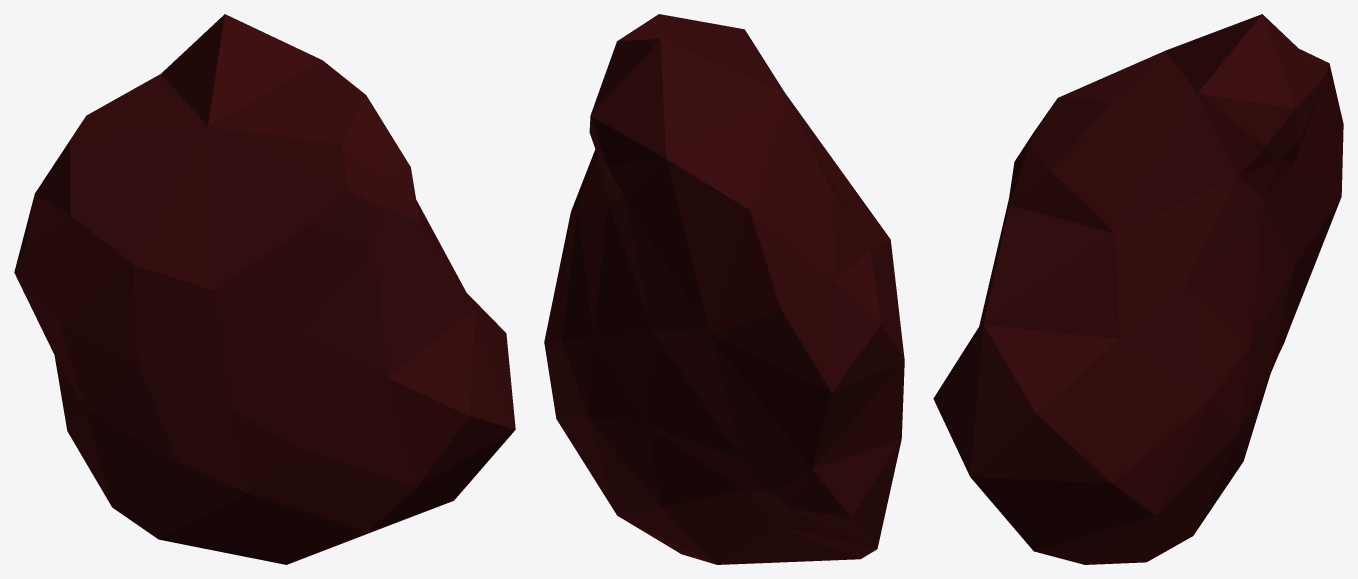
File: Tumor.obj
The picture shows the model from 3 angles, left to right: view 1: azimuth 30°, elevation 25°; view 2: azimuth 150°, elevation 25°; view 3: azimuth 270°, elevation 25°; orthographic projection. The views are drawn at different scales.
Parts seen in each view (by area): view 1: Tumor_Tumor_01_Coarse.000; view 2: Tumor_Tumor_01_Coarse.000; view 3: Tumor_Tumor_01_Coarse.000.
Boxes of the visible parts, x1,y1,x2,y2 form: Tumor_Tumor_01_Coarse.000: (14, 14, 515, 564); Tumor_Tumor_01_Coarse.000: (544, 14, 904, 564); Tumor_Tumor_01_Coarse.000: (933, 14, 1343, 564).
Bounding box in the file's own units: 1.9 × 2.41 × 1.69.
